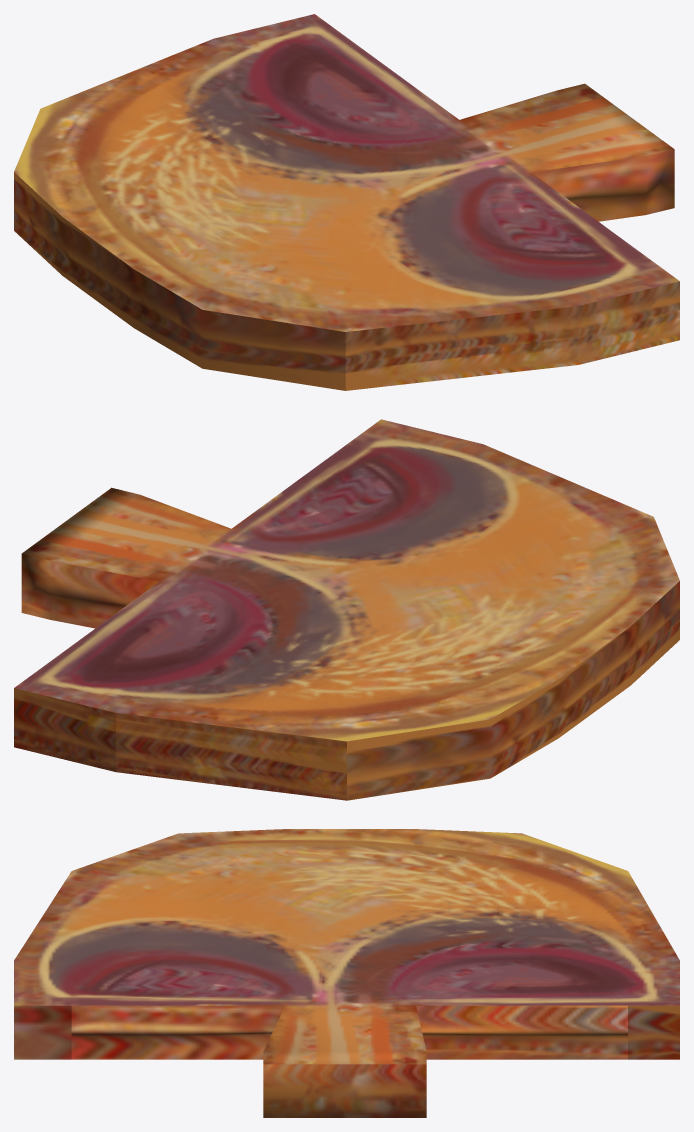
The model's file is SM_Mushroom.fbx.
3 renders of one model, top to bottom at view 1: azimuth 30°, elevation 25°; view 2: azimuth 150°, elevation 25°; view 3: azimuth 270°, elevation 25°, orthographic. The views are drawn at different scales.
Visible parts, largest first — view 1: SM_Mushroom; view 2: SM_Mushroom; view 3: SM_Mushroom.
Boxes of the visible parts, x1,y1,x2,y2 form: SM_Mushroom: (14,14,679,390); SM_Mushroom: (14,419,679,800); SM_Mushroom: (14,829,679,1117).
Size of the model in its own units: 0.393 by 0.0419 by 0.4703.
